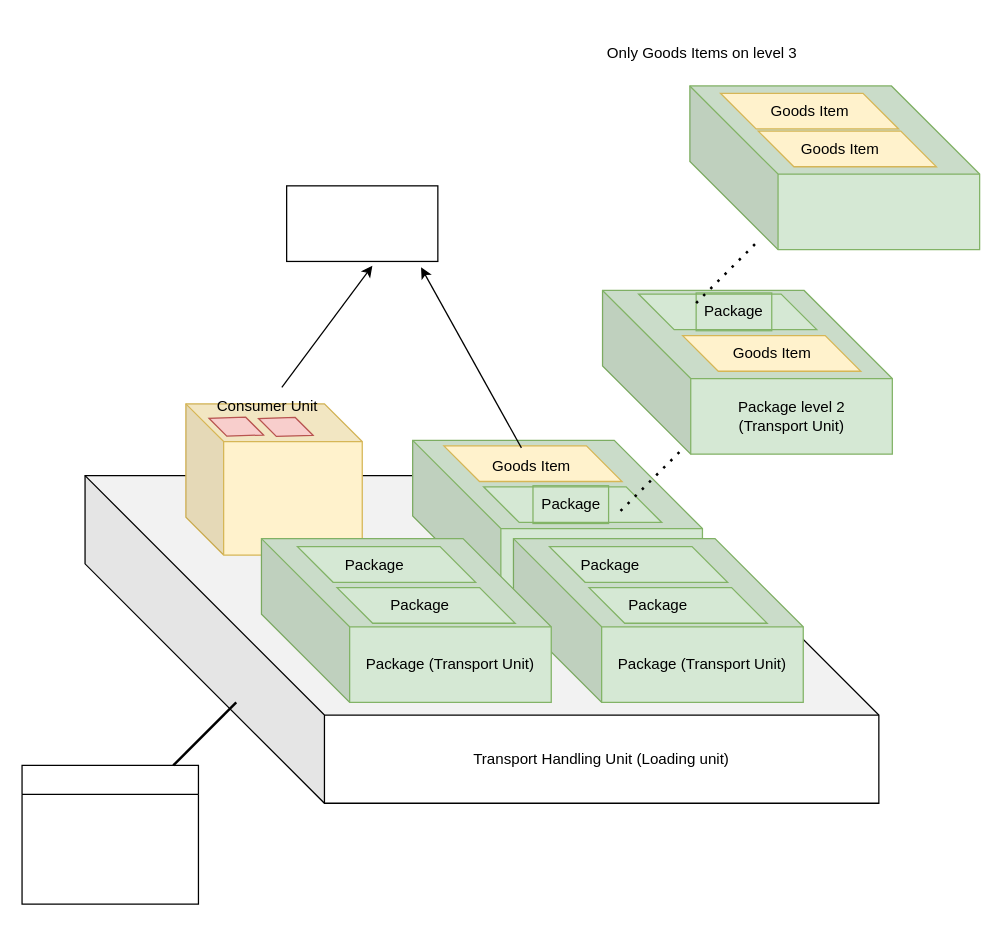
Image size: 1002x927. Some labels were removed from this diagram. Each missing label, with the box of its shape:
Despatch Line: (285, 185, 438, 261)
Goods Item (Tradeable and pricing Unit): (185, 403, 362, 555)
Package level 3 (Transport Unit): (689, 85, 980, 250)
Transport Equipment: (21, 764, 198, 904)
